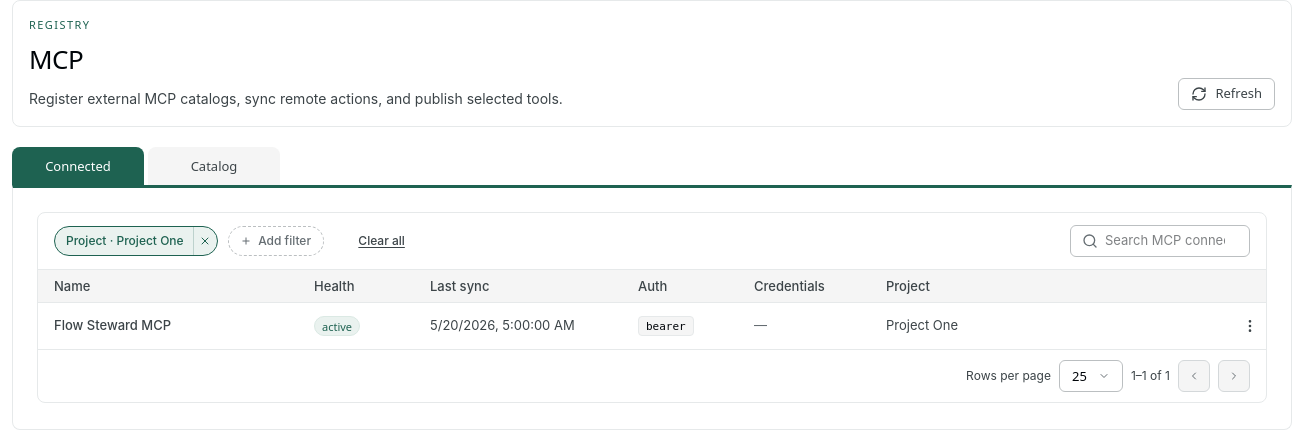
RegistryMcpPage › keeps MCP visible but hides mutation controls from viewers
The image size is (1292, 447).
Click the button named "Actions for ": (1250, 326) [1234,310,1266,342]
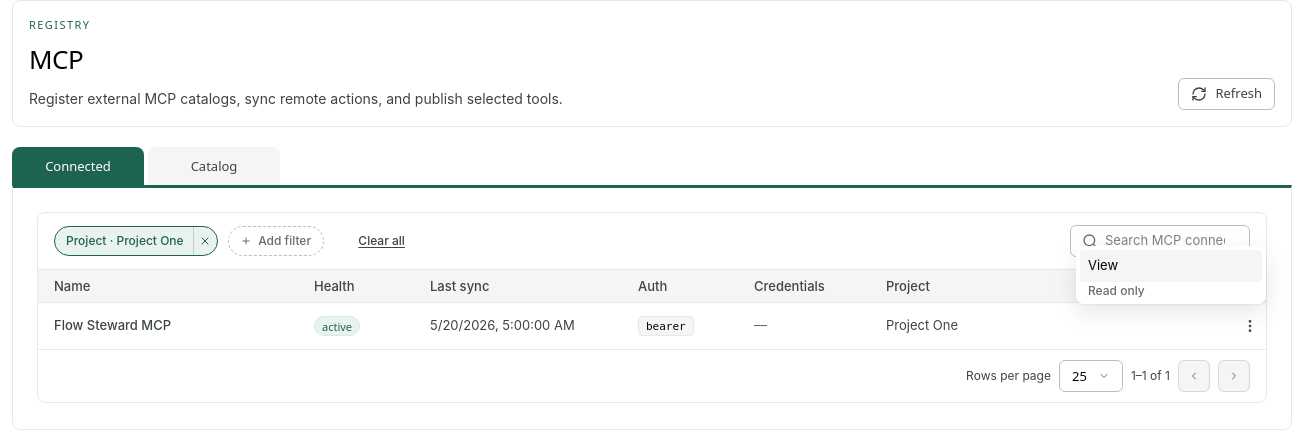
expect the menu item "View" is shown: met, box [1080,250,1262,282]
